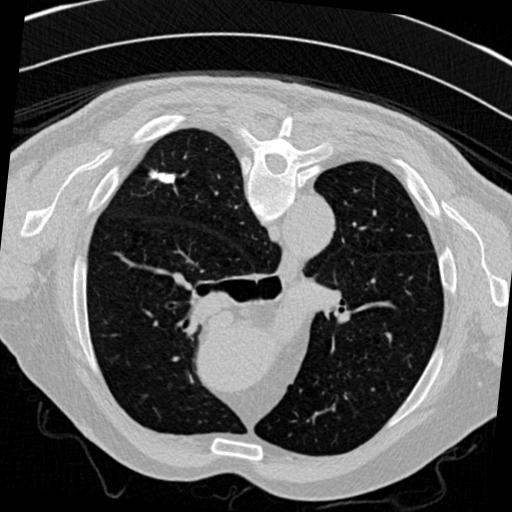nodule: (151, 168, 175, 192)
